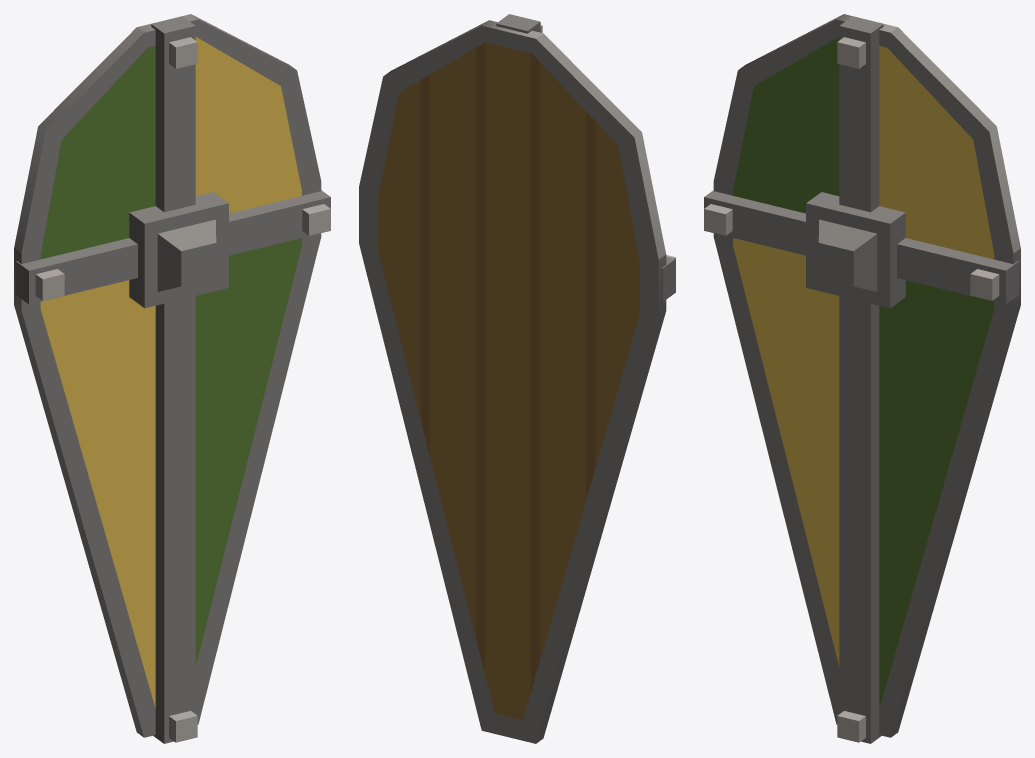
Rendered from SF_Wep_KiteShield_Pattern_09.fbx.
3 views of the same model, side by side, from view 1: azimuth 30°, elevation 25°; view 2: azimuth 150°, elevation 25°; view 3: azimuth 330°, elevation 25° (orthographic).
Parts seen in each view (by area): view 1: SF_Wep_KiteShield_Pattern_09; view 2: SF_Wep_KiteShield_Pattern_09; view 3: SF_Wep_KiteShield_Pattern_09.
Part boxes in pixels (bbox=[...]): SF_Wep_KiteShield_Pattern_09: bbox=[14, 14, 330, 743]; SF_Wep_KiteShield_Pattern_09: bbox=[359, 14, 675, 743]; SF_Wep_KiteShield_Pattern_09: bbox=[704, 14, 1020, 743].
Bounding box in the file's own units: 0.9946 × 2.24 × 0.1992.
